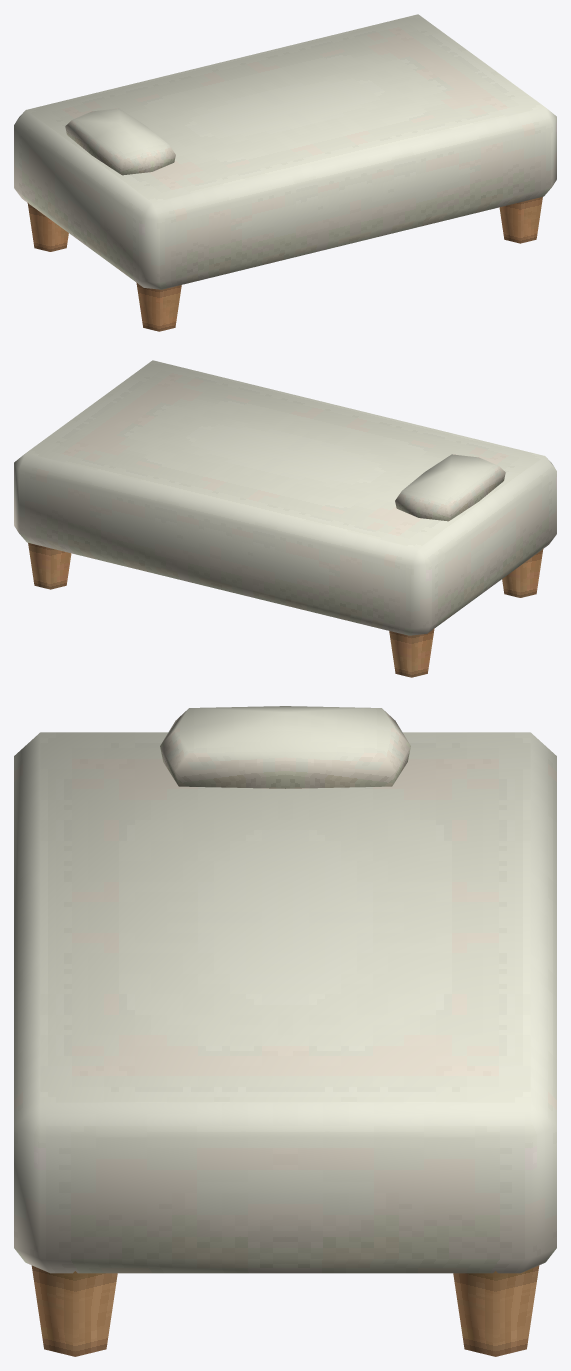
Rendered from rmk_smp_bedS.dae.
The picture shows the model from 3 angles, top to bottom: view 1: azimuth 30°, elevation 25°; view 2: azimuth 150°, elevation 25°; view 3: azimuth 270°, elevation 25°; orthographic projection. The views are drawn at different scales.
Parts seen in each view (by area): view 1: rmk_smp_bedS; view 2: rmk_smp_bedS; view 3: rmk_smp_bedS.
Boxes of the visible parts, x1=… form: rmk_smp_bedS: x1=14, y1=14, x2=556, y2=331; rmk_smp_bedS: x1=14, y1=360, x2=556, y2=677; rmk_smp_bedS: x1=14, y1=706, x2=556, y2=1356.
Size of the model in its own units: 53 by 19.12 by 31.
Materials: 2 (2 with a texture image).
